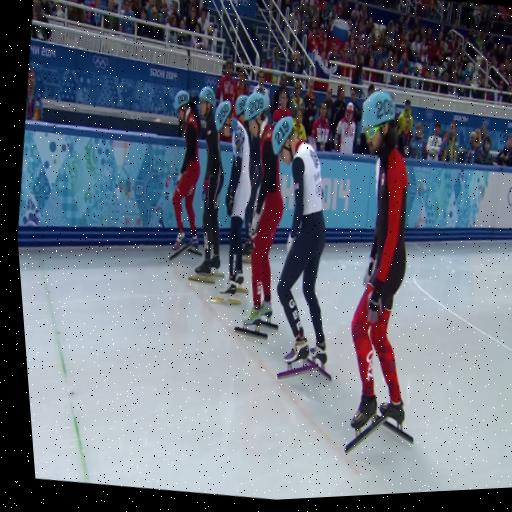Skater: (345, 91, 412, 452), (273, 117, 330, 379), (235, 94, 284, 339), (213, 102, 251, 304), (190, 88, 224, 282), (171, 91, 200, 260)
